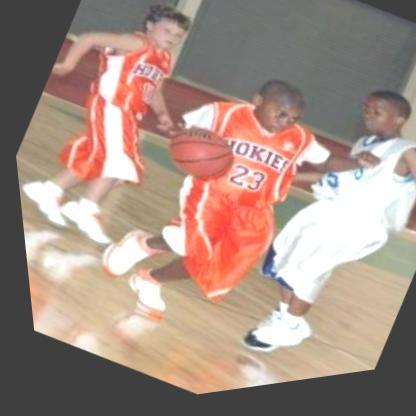basketball: (152, 117, 240, 203)
